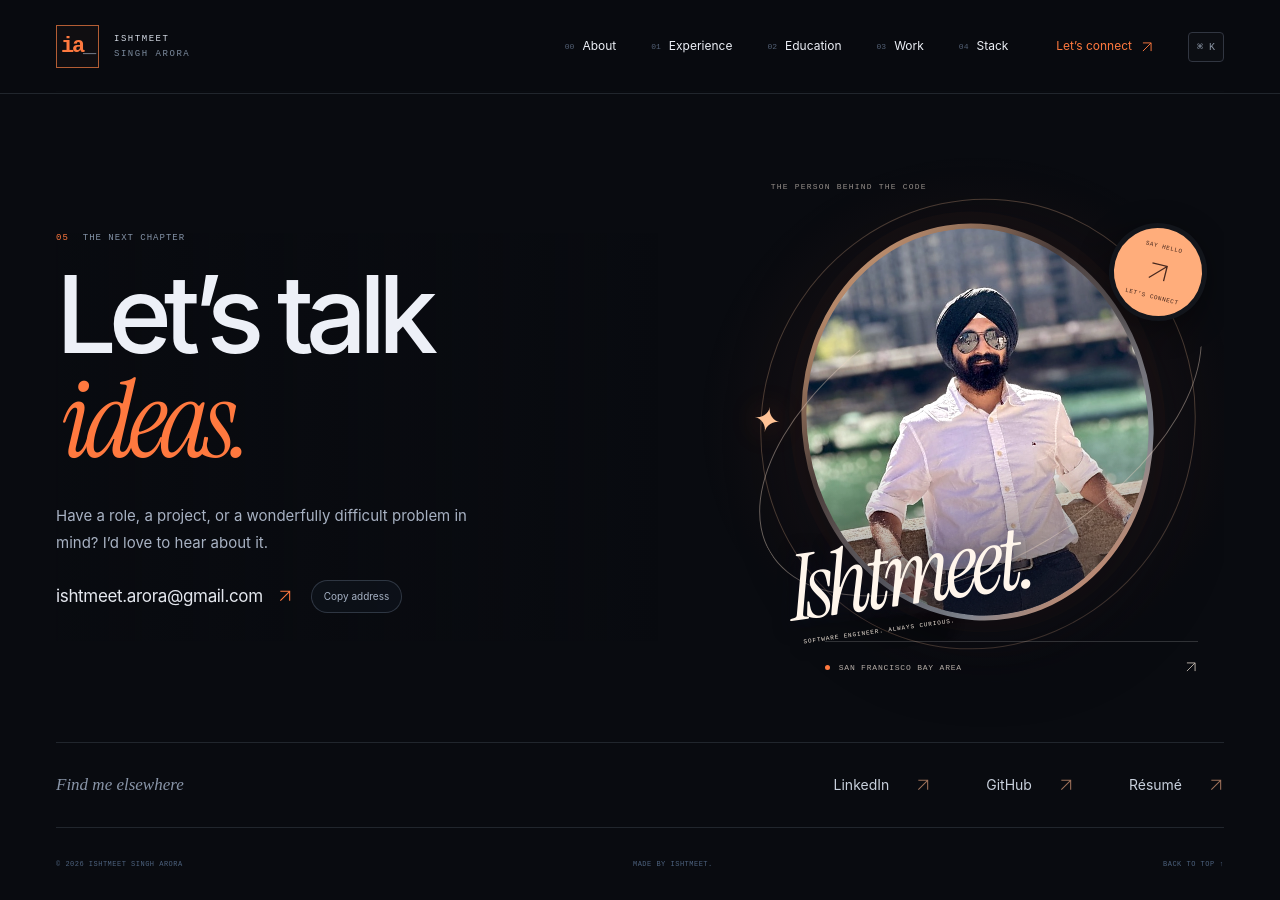
Test: reports clipboard success only after copying succeeds
(page scrolled)
Click the button with class "copy-email" at (356, 596), box [311,580,402,613]
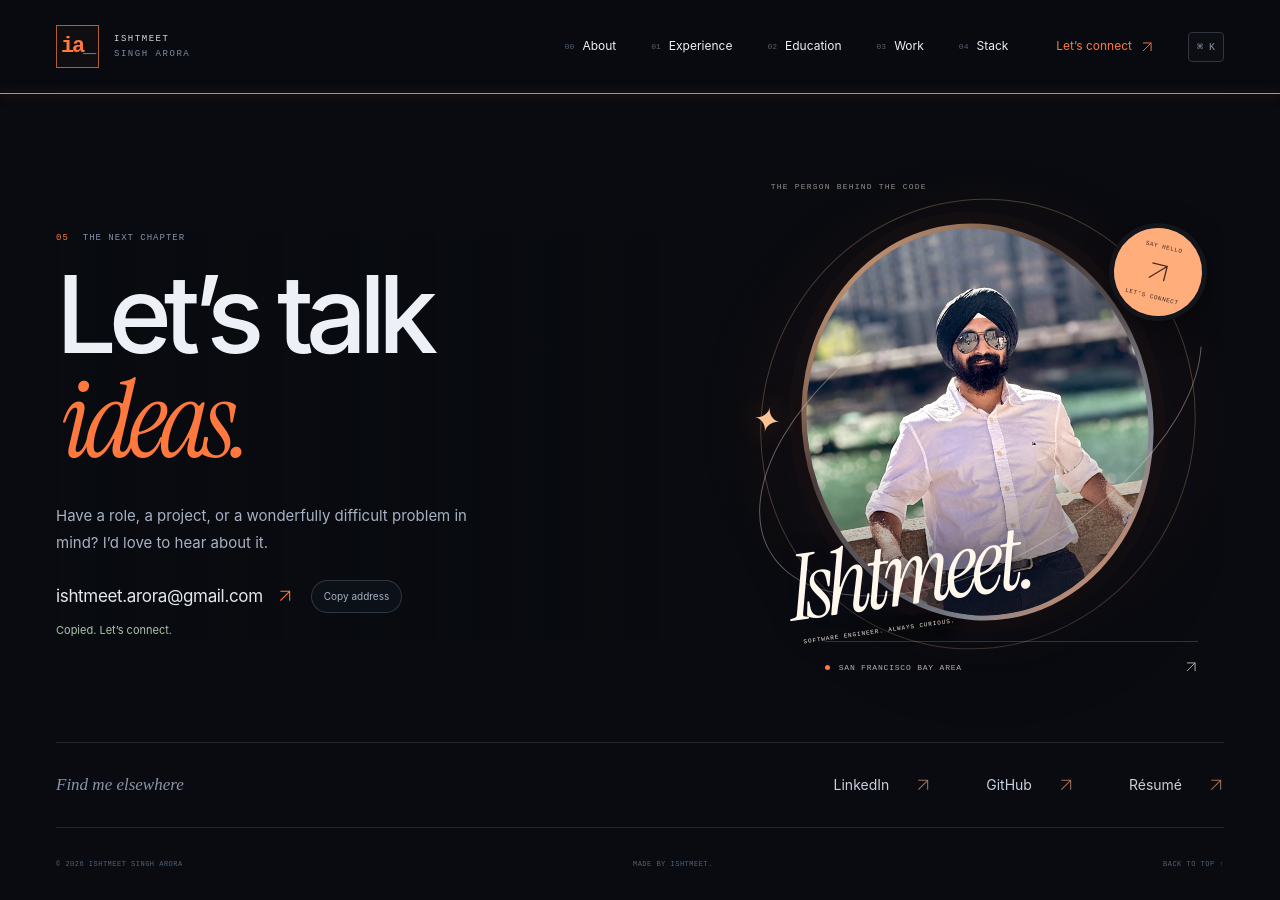
Check: the message with class "copy-status" shows "Copied.", box [56,623,172,637]
